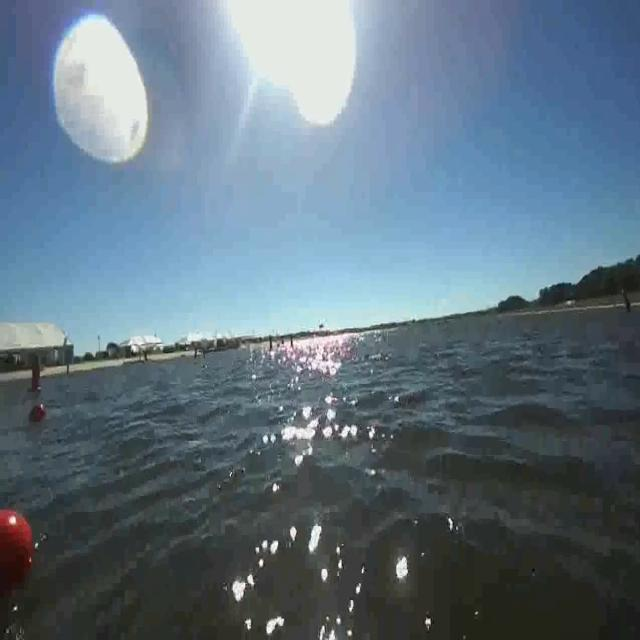red-buoy: (0, 509, 33, 593), (33, 407, 46, 421)
